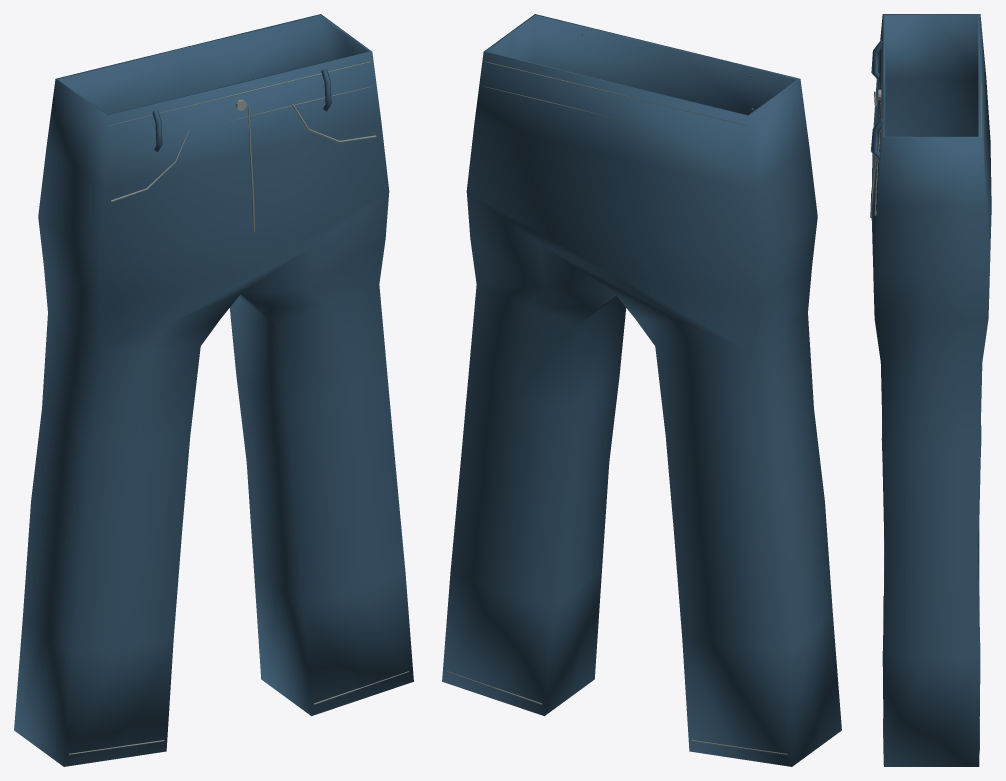
File: A-NEW-20261027-TROUSERS-001_LOD2_R1.glb
The picture shows the model from 3 angles, left to right: view 1: azimuth 30°, elevation 25°; view 2: azimuth 150°, elevation 25°; view 3: azimuth 270°, elevation 25°; orthographic projection. The views are drawn at different scales.
Visible parts, largest first — view 1: complete hollow trousers cloth; view 2: complete hollow trousers cloth; view 3: complete hollow trousers cloth, front belt loop 1, front belt loop -1.
Part boxes in pixels (left/top/right/bottom): complete hollow trousers cloth: left=14, top=14, right=413, bottom=766; complete hollow trousers cloth: left=442, top=14, right=841, bottom=766; complete hollow trousers cloth: left=871, top=14, right=991, bottom=766; front belt loop 1: left=871, top=119, right=885, bottom=158; front belt loop -1: left=871, top=40, right=882, bottom=80.
Size of the model in its own units: 0.58 by 1.03 by 0.1831.
